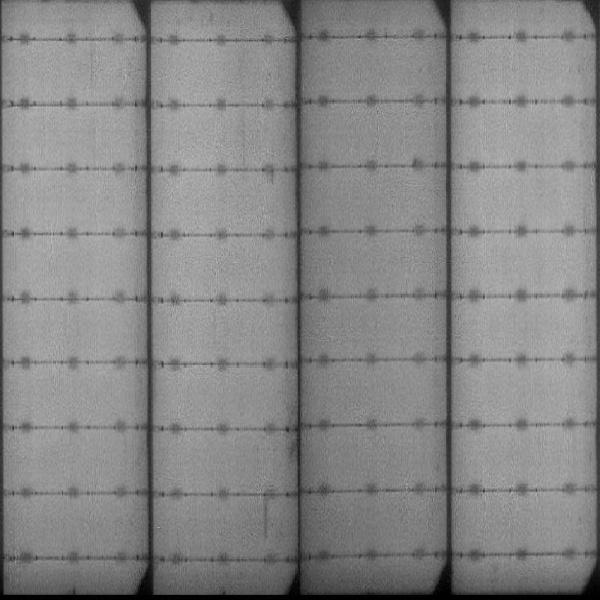scratch: (261, 494, 272, 545)
